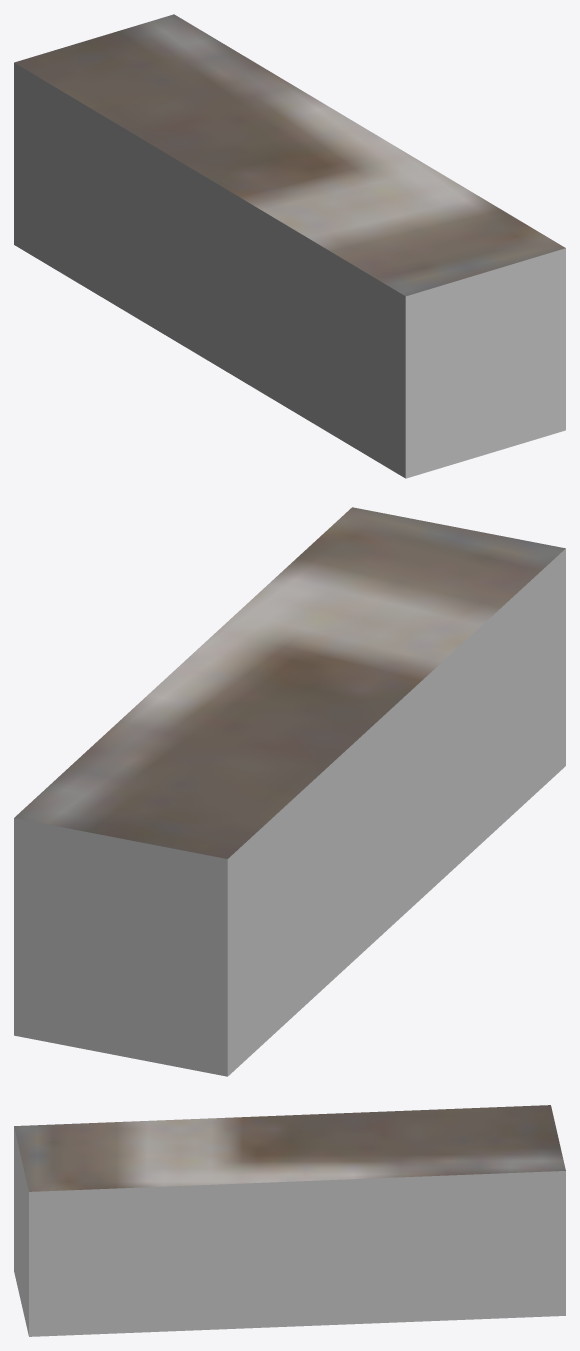
File: DEBW_0010007Tx8M.gltf
The picture shows the model from 3 angles, top to bottom: view 1: azimuth 30°, elevation 25°; view 2: azimuth 150°, elevation 25°; view 3: azimuth 270°, elevation 25°; orthographic projection. The views are drawn at different scales.
Visible parts, largest first — view 1: Z_UP; view 2: Z_UP; view 3: Z_UP.
Boxes of the visible parts, box(x1,y1,x2,y2) form: Z_UP: box(14, 14, 565, 478); Z_UP: box(14, 507, 565, 1076); Z_UP: box(14, 1105, 565, 1336).
Bounding box in the file's own units: 2.6 × 2.02 × 6.98.
2 materials, 1 textured.
